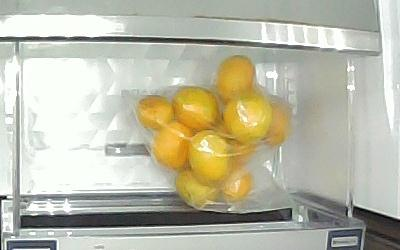tangerine_vinyl: (223, 92, 274, 145), (189, 130, 233, 187), (172, 86, 221, 131), (216, 54, 257, 105), (153, 121, 194, 172), (174, 167, 219, 210), (134, 93, 176, 132), (266, 98, 292, 150), (220, 168, 254, 203), (225, 138, 258, 169)
